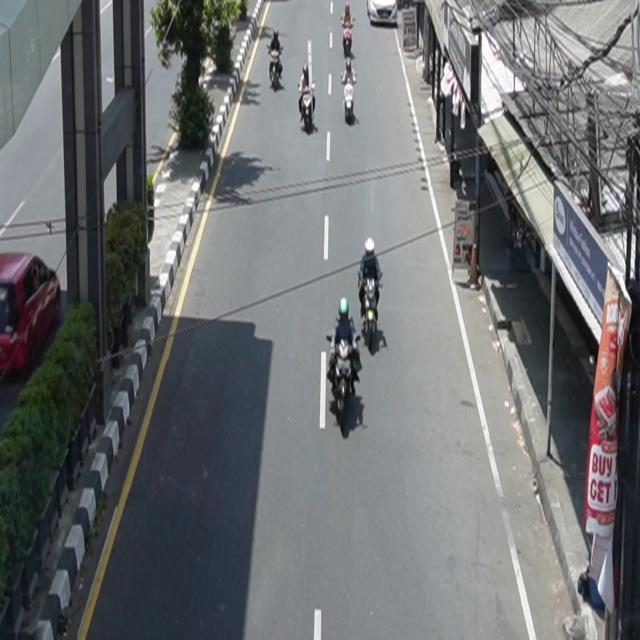car: (1, 252, 62, 381), (367, 1, 398, 26)
